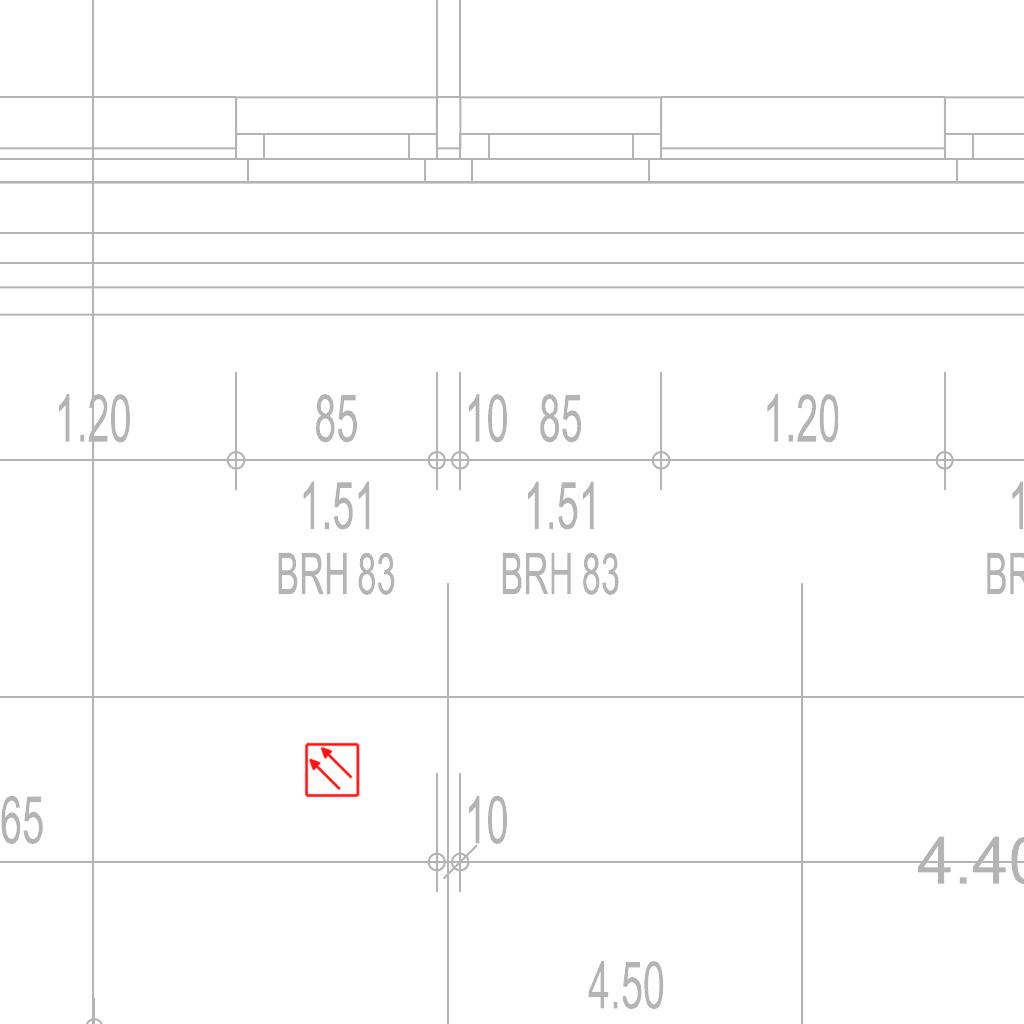RMO_Rauchmelder_optischer: (304, 742, 360, 798)
